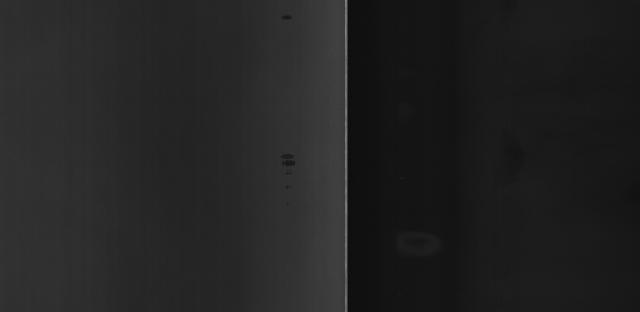oil_spot: (278, 144, 306, 180), (273, 8, 300, 31)
